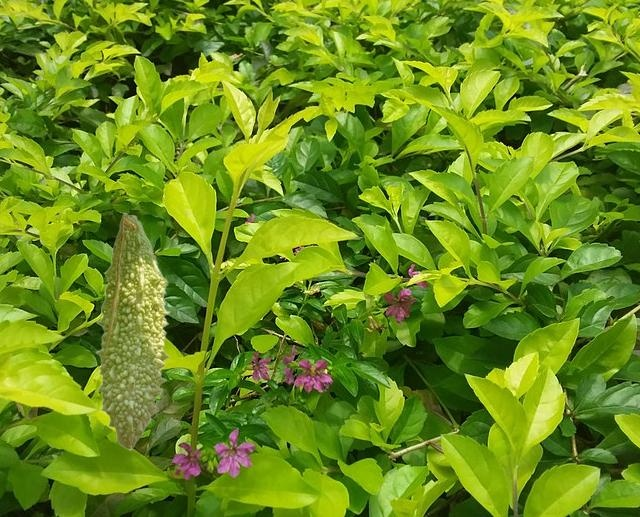ampalaya: (94, 212, 171, 451)
